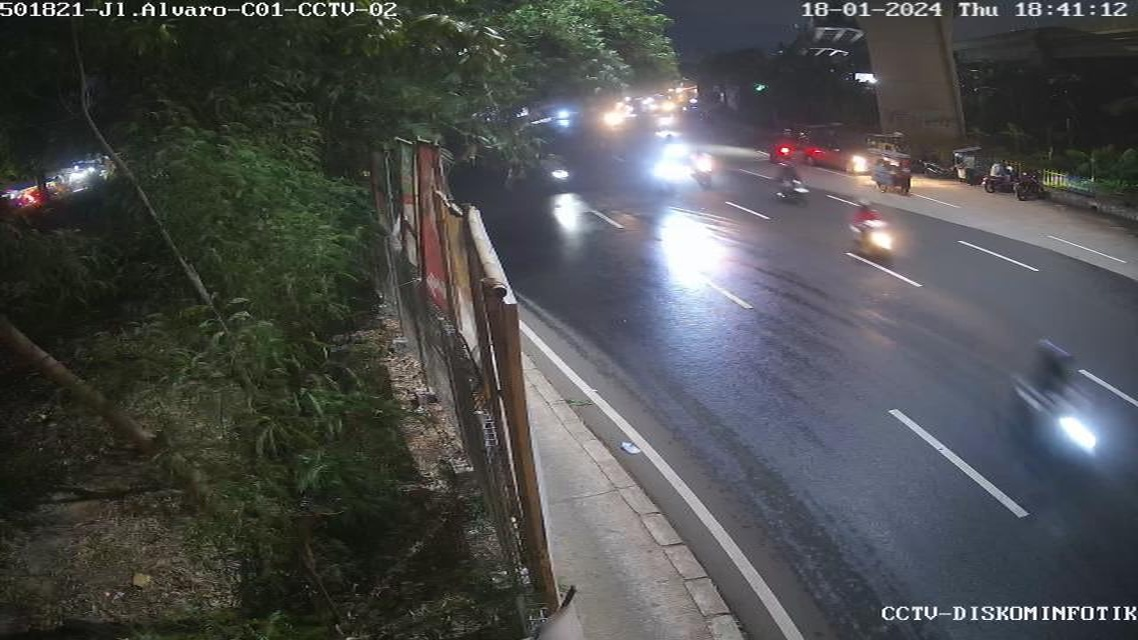Gerobak: (862, 147, 918, 200), (953, 143, 985, 189)
